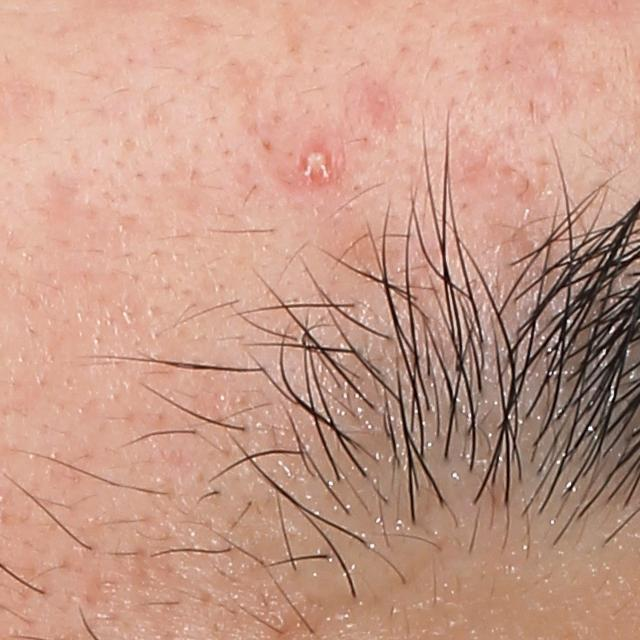pustule: (292, 142, 340, 187)
